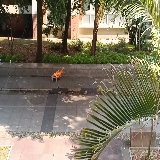fire: (53, 67, 64, 77)
